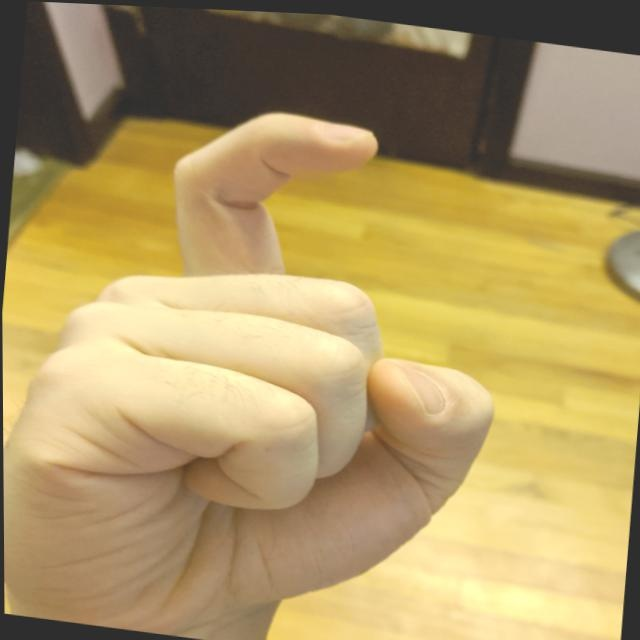X: (0, 70, 530, 639)
